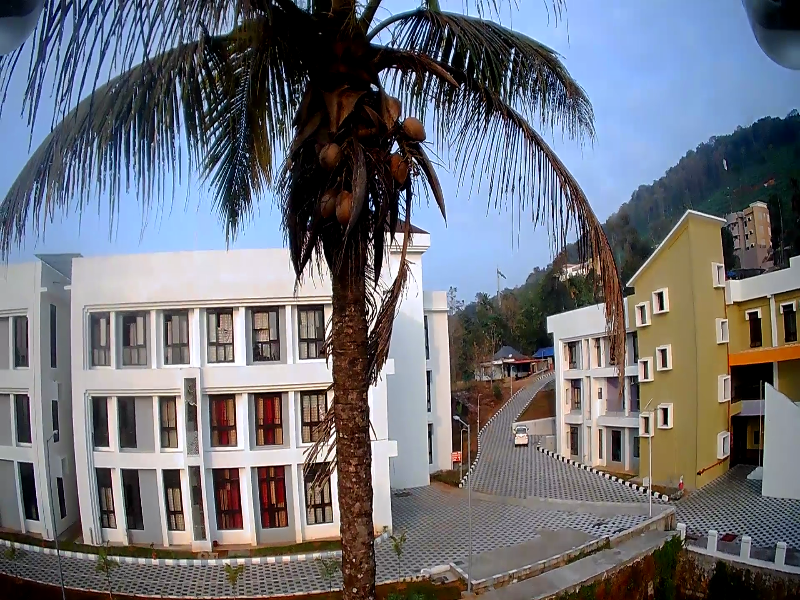coconut: (401, 113, 432, 152), (315, 190, 335, 219), (325, 146, 350, 167), (389, 153, 407, 182), (334, 187, 350, 216)
